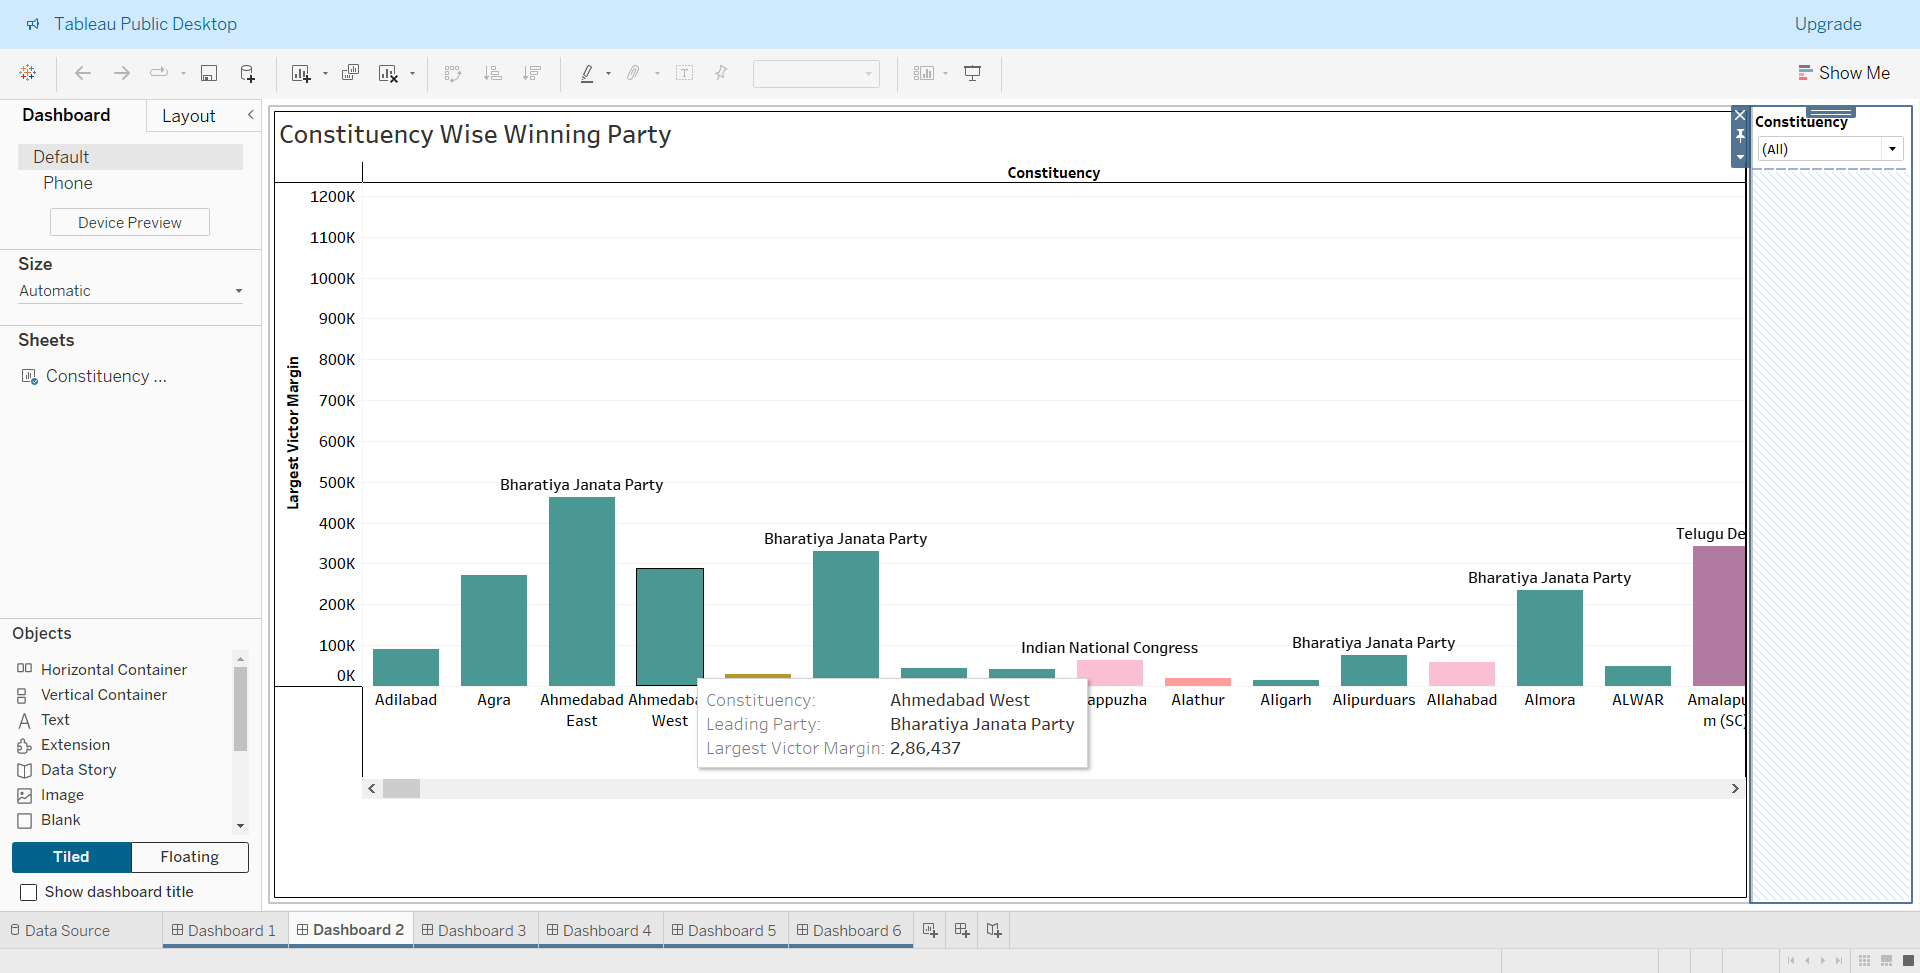

Layout of this report page (visuals, bound fields, positions):
{"tool":"tableau","page":{"name":"Dashboard 2","canvas":[1000,1000],"units":"permille","ordinal":1},"visuals":[{"type":"worksheet","title":"Constituency wise winning party","mark":"Automatic","rows":["Calculation_16888533279363072"],"cols":["Constituency"],"box":[5,9.9,890.1,980.3]},{"type":"filter","title":"Constituency wise winning party","param":"[federated.0h8ex2p1y0920d146o5uc1f2loxi].[none:Constituency:nk]","box":[895.1,9.9,99.9,75.2]}]}

Visuals, with their boxes on the dashboard's canvas, which has no fixed pixel size, in thousandths of its width and height (x1, y1, x2, y2). These are canvas units, not pixel positions in the 1920x973 screenshot, which may show the page scaled, cropped or inside an application window:
"Constituency wise winning party" worksheet: left=5, top=10, right=895, bottom=990
"Constituency wise winning party" filter: left=895, top=10, right=995, bottom=85
